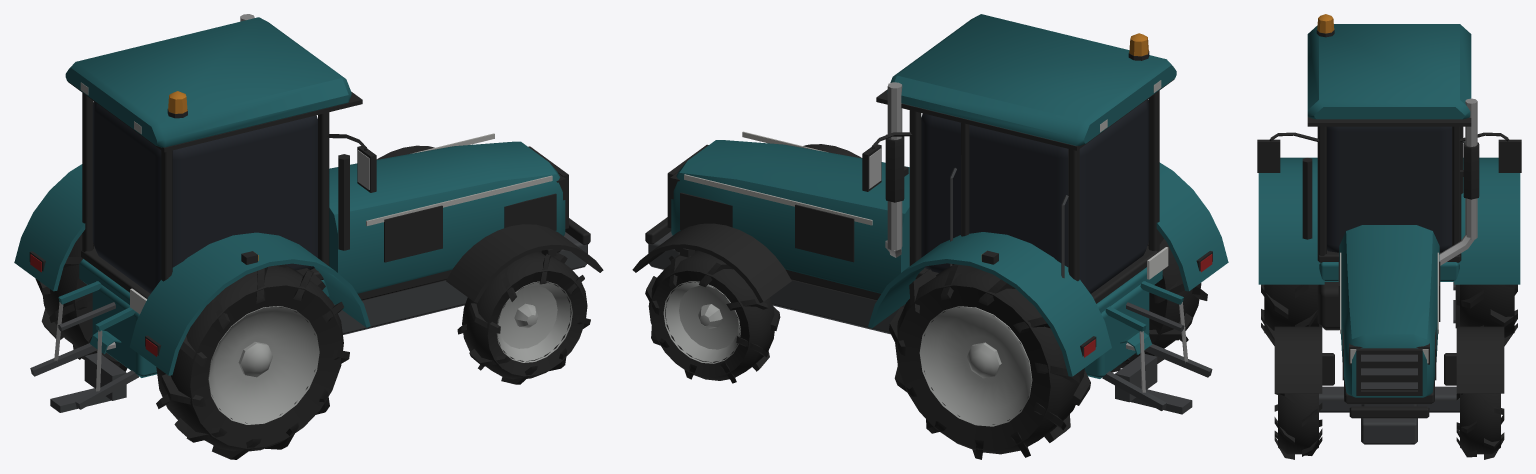
Rendered from SM_Prop_farm_tractor_utility_0_LOD1.glb.
3 renders of one model, left to right at view 1: azimuth 30°, elevation 25°; view 2: azimuth 150°, elevation 25°; view 3: azimuth 270°, elevation 25°, orthographic. The views are drawn at different scales.
Visible parts, largest first — view 1: SM_Prop_farm_tractor_utility_0_LOD1; view 2: SM_Prop_farm_tractor_utility_0_LOD1; view 3: SM_Prop_farm_tractor_utility_0_LOD1.
Part boxes in pixels (x1=…): SM_Prop_farm_tractor_utility_0_LOD1: x1=14, y1=14, x2=603, y2=459; SM_Prop_farm_tractor_utility_0_LOD1: x1=632, y1=14, x2=1228, y2=459; SM_Prop_farm_tractor_utility_0_LOD1: x1=1257, y1=14, x2=1521, y2=459.
Size of the model in its own units: 4.47 by 2.94 by 2.32.
